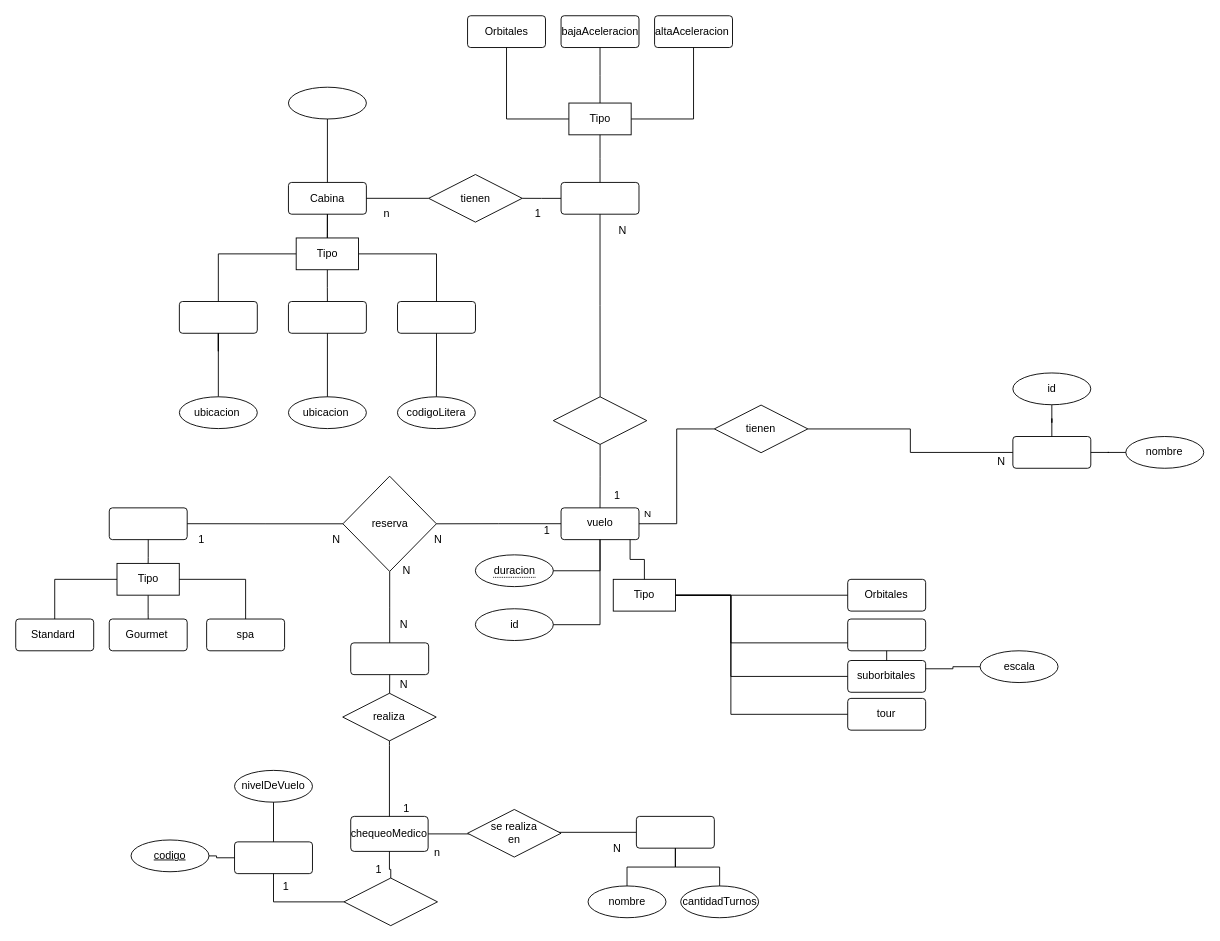
This 1220x941 diagram has some shape labels left out. The shapes that lost their labels are listed below. From the top down, each one's centre as x and y in pixels, then its label:
point 327,102: numeroAsiento
point 599,198: Equipos
point 217,317: general
point 327,317: familiar
point 436,317: suite
point 599,420: se le asigna
point 1051,452: destinos
point 147,523: Servicio
point 886,634: EntreDestinos
point 389,658: cliente
point 674,831: centrosMedicos
point 273,857: codigoViajero
point 390,901: devuelve
